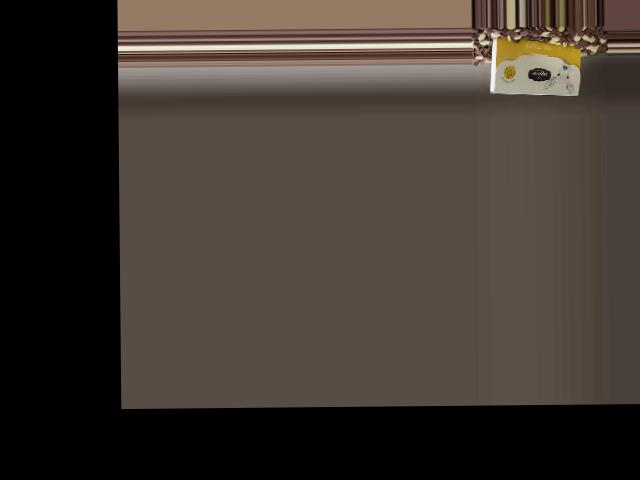chocolate: (485, 34, 586, 99)
